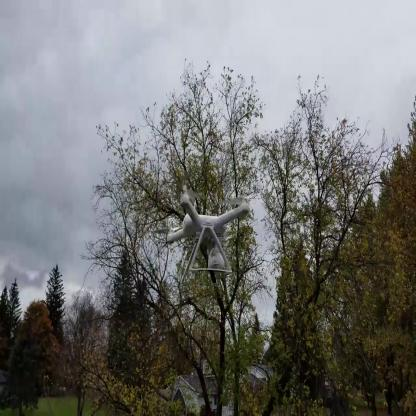drone: (155, 182, 258, 258)
